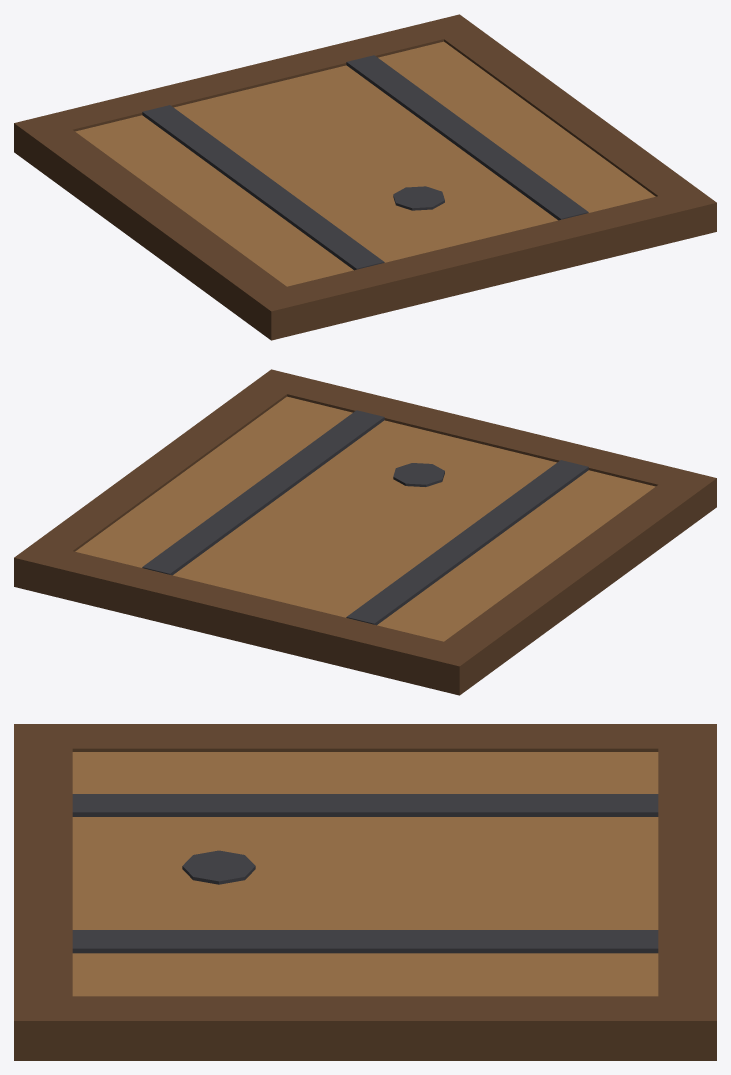
Rendered from Trapdoor.fbx.
The picture shows the model from 3 angles, top to bottom: view 1: azimuth 30°, elevation 25°; view 2: azimuth 150°, elevation 25°; view 3: azimuth 270°, elevation 25°; orthographic projection. The views are drawn at different scales.
Parts seen in each view (by area): view 1: Trapdoor; view 2: Trapdoor; view 3: Trapdoor.
Boxes of the visible parts, x1=… form: Trapdoor: x1=14, y1=14, x2=716, y2=340; Trapdoor: x1=14, y1=369, x2=716, y2=695; Trapdoor: x1=14, y1=724, x2=716, y2=1060.
Size of the model in its own units: 0.96 by 0.07 by 0.96.
